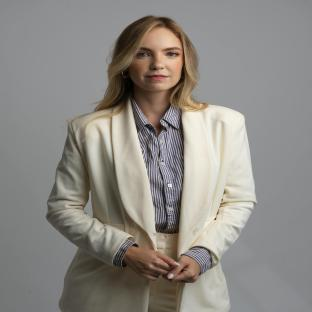Human: (46, 16, 256, 312)
